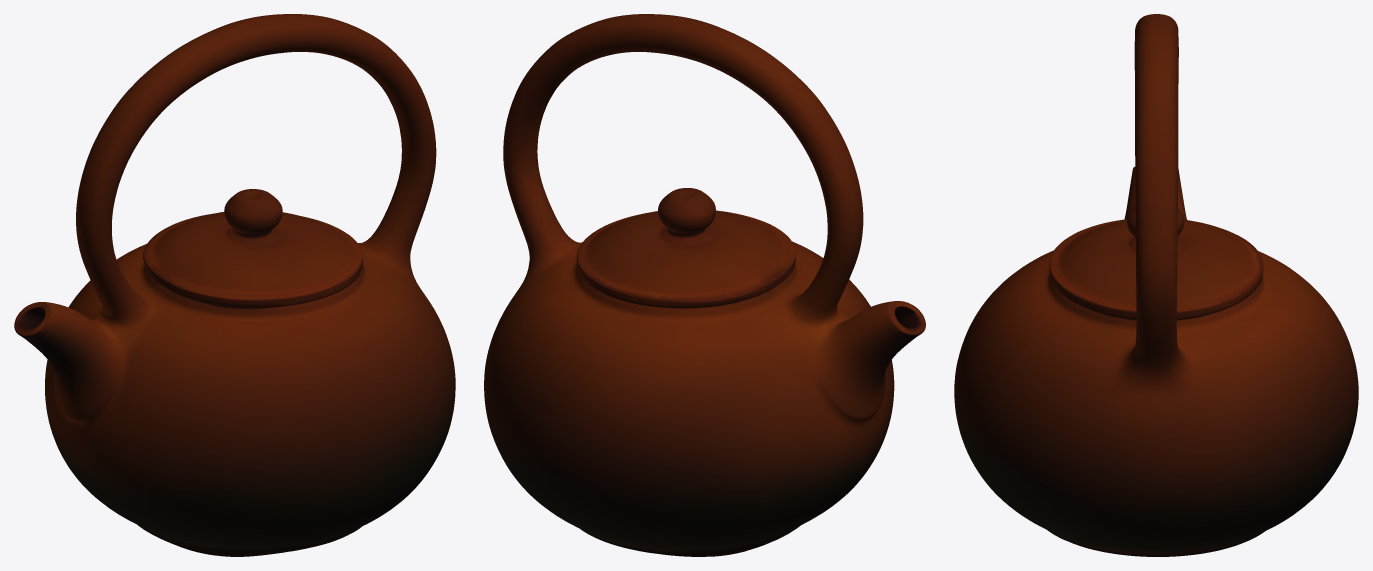
The model's file is winepot_tc.glb.
3 renders of one model, left to right at view 1: azimuth 30°, elevation 25°; view 2: azimuth 150°, elevation 25°; view 3: azimuth 270°, elevation 25°, orthographic.
Parts seen in each view (by area): view 1: material; view 2: material; view 3: material.
Part boxes in pixels (bbox=[...]): material: bbox=[14, 14, 455, 556]; material: bbox=[484, 14, 925, 556]; material: bbox=[954, 14, 1358, 556].
Size of the model in its own units: 0.9435 by 1.05 by 0.811.
1 material, 1 textured.
